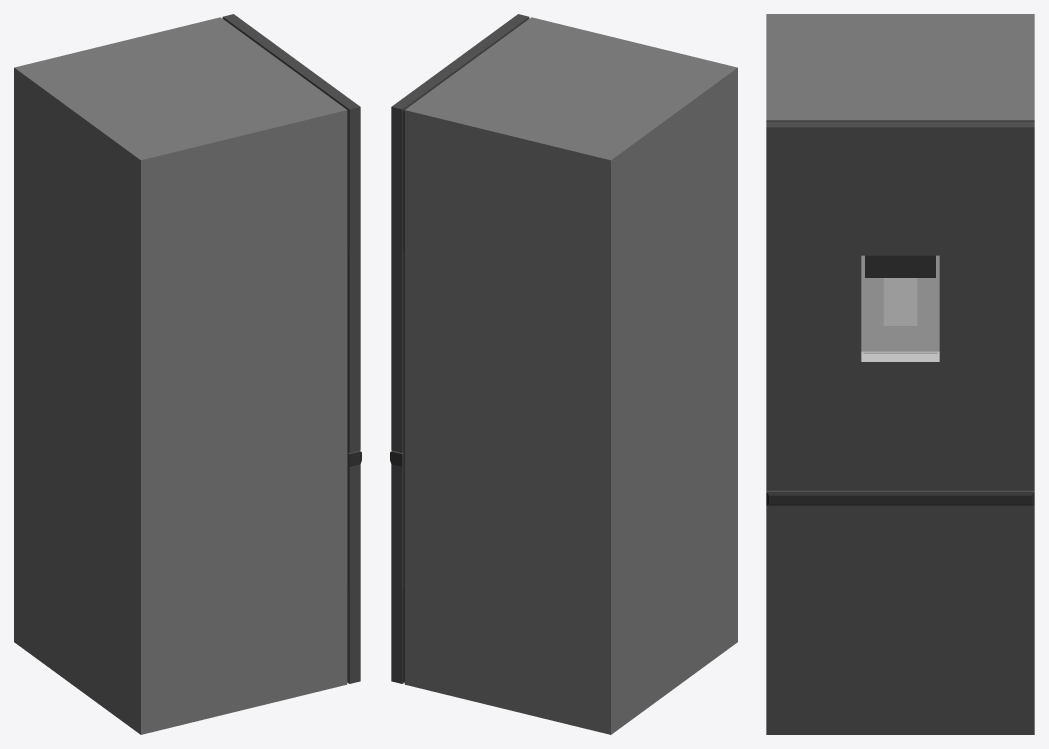
The model's file is Fridge_Dispenser_Single.fbx.
The picture shows the model from 3 angles, left to right: view 1: azimuth 30°, elevation 25°; view 2: azimuth 150°, elevation 25°; view 3: azimuth 270°, elevation 25°; orthographic projection. The views are drawn at different scales.
Parts seen in each view (by area): view 1: Base, Door_Top, Door_Bottom; view 2: Base, Door_Top, Door_Bottom; view 3: Door_Top, Door_Bottom, Base.
Boxes of the visible parts, x1,y1,x2,y2 form: Base: (14, 17, 348, 734); Door_Top: (222, 14, 360, 452); Door_Bottom: (347, 450, 361, 683); Base: (403, 17, 737, 734); Door_Top: (391, 14, 529, 452); Door_Bottom: (390, 450, 404, 683); Door_Top: (766, 121, 1034, 490); Door_Bottom: (766, 490, 1034, 734); Base: (766, 14, 1034, 121).
Size of the model in its own units: 101 by 250 by 100.
